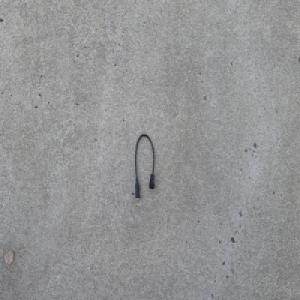Wire: (134, 132, 155, 201)
